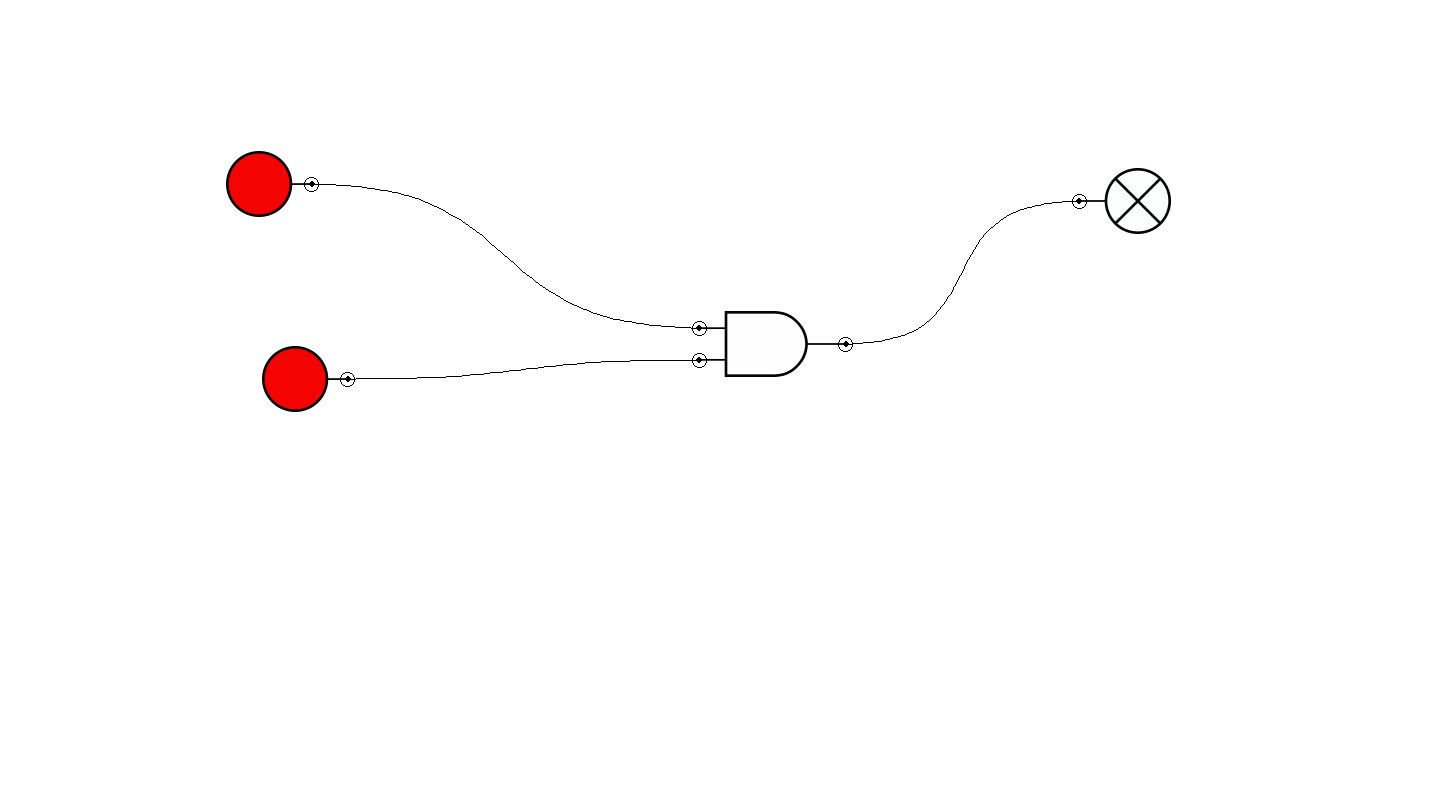and: (692, 311, 853, 377)
bulb: (1072, 168, 1171, 234)
switch_False: (262, 346, 355, 412), (226, 151, 319, 217)
